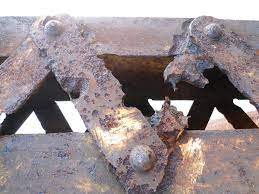rust: (5, 133, 258, 190), (3, 12, 259, 64), (49, 31, 145, 140), (156, 37, 224, 89), (2, 58, 49, 115), (217, 53, 259, 108), (144, 98, 196, 138)
